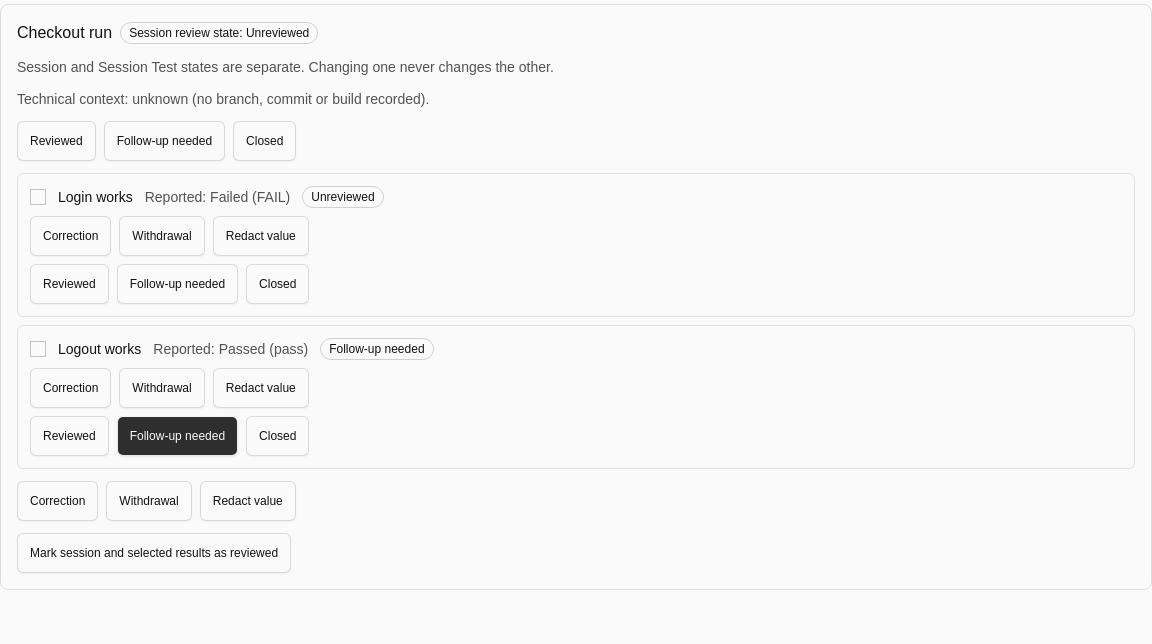
Test: a failed commit shows an alert and nothing is claimed as saved
Click the button "Mark session and selected results as reviewed" at (154, 553), box [17,533,291,573]
(page scrolled)
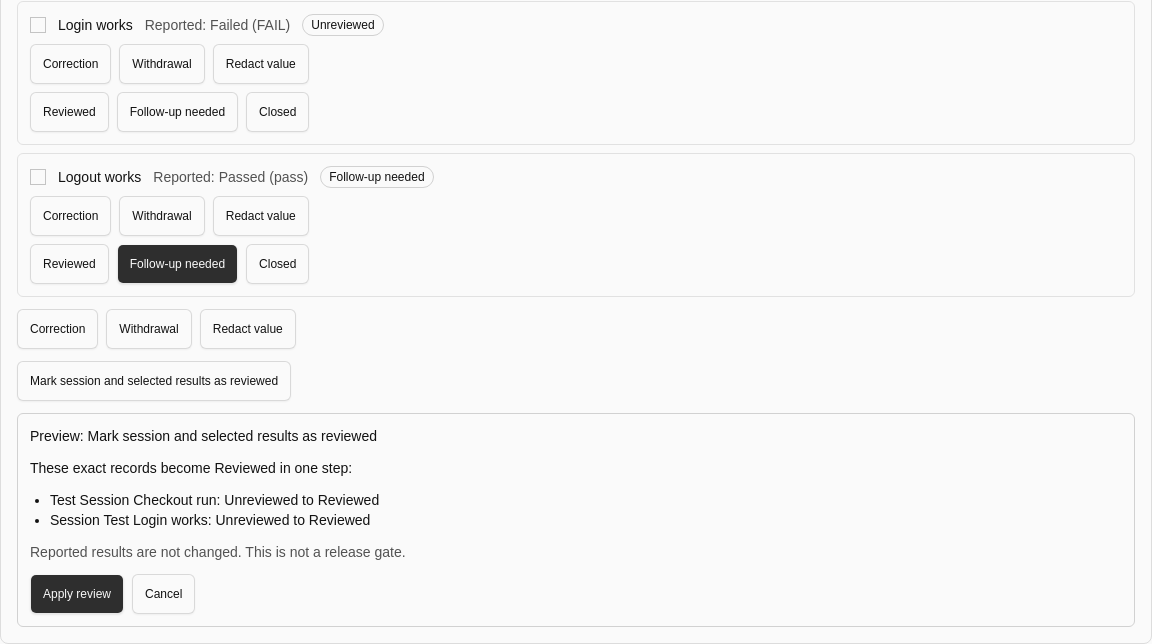
Click the button "Apply review" at (77, 594), box [30,574,124,614]
(page scrolled)
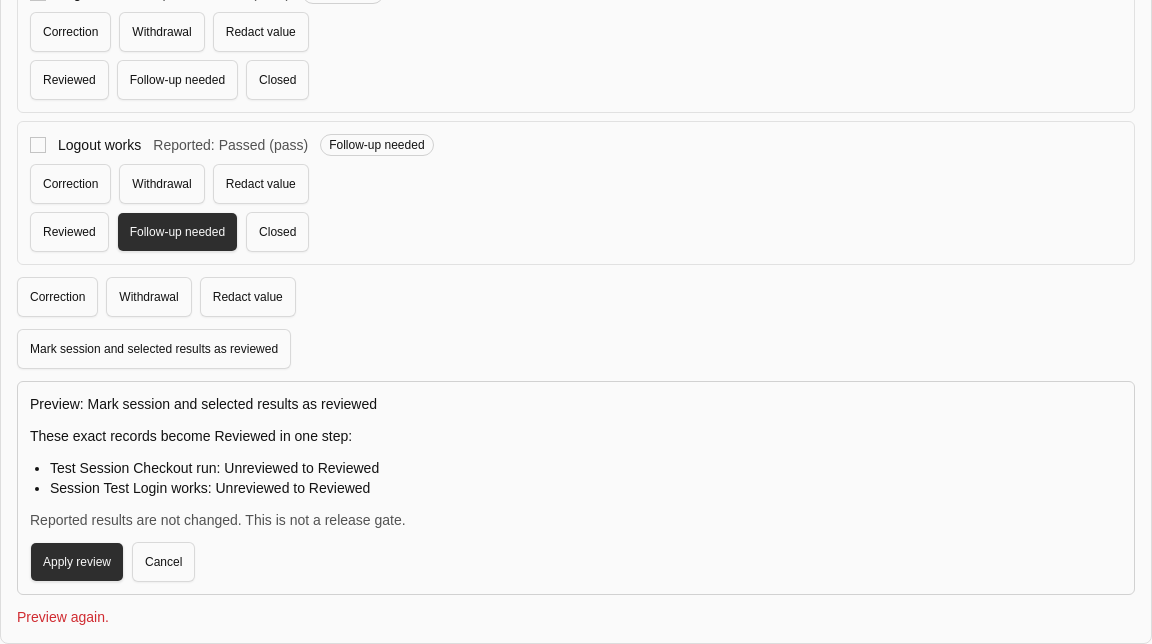
Check: the message "Preview again." is shown, box [17,609,109,625]
